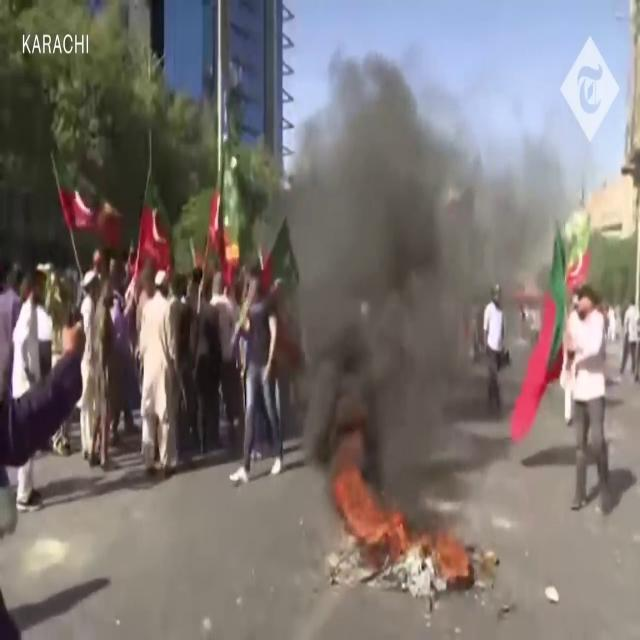Fire: (328, 460, 479, 592)
Smoke: (272, 24, 516, 498)
